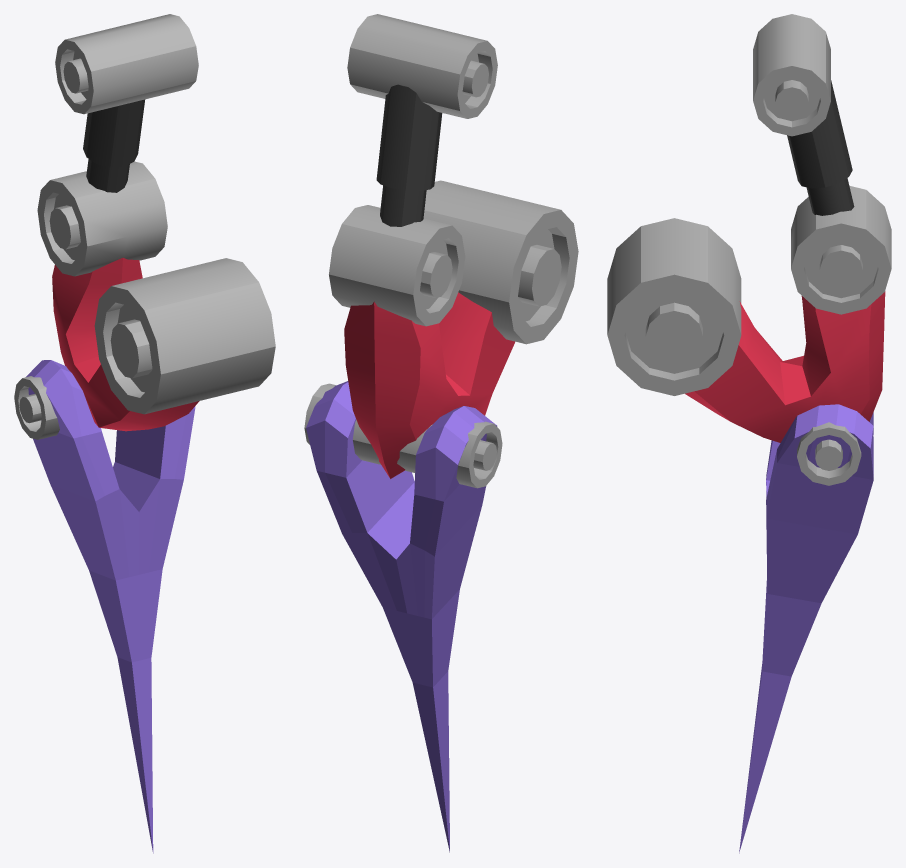
File: BaseLeg.fbx
3 renders of one model, left to right at view 1: azimuth 30°, elevation 25°; view 2: azimuth 150°, elevation 25°; view 3: azimuth 270°, elevation 25°, orthographic. The views are drawn at different scales.
Visible parts, largest first — view 1: 立方体.004; view 2: 立方体.004; view 3: 立方体.004.
Boxes of the visible parts, bbox=[...] form: 立方体.004: bbox=[14, 14, 275, 853]; 立方体.004: bbox=[304, 14, 578, 852]; 立方体.004: bbox=[607, 14, 891, 853].
Bounding box in the file's own units: 0.5922 × 2.76 × 0.8745.
